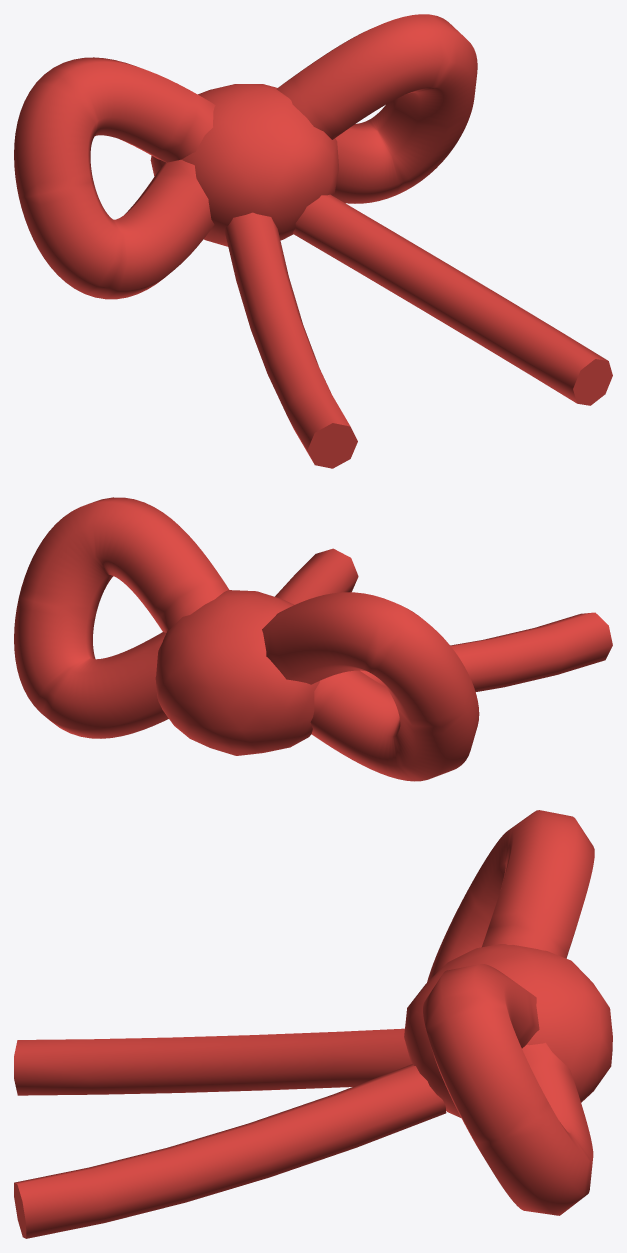
Rendered from lp_bow.glb.
The picture shows the model from 3 angles, top to bottom: view 1: azimuth 30°, elevation 25°; view 2: azimuth 150°, elevation 25°; view 3: azimuth 270°, elevation 25°; orthographic projection. The views are drawn at different scales.
Visible parts, largest first — view 1: lp_bow; view 2: lp_bow; view 3: lp_bow.
Boxes of the visible parts, x1,y1,x2,y2 form: lp_bow: [14, 14, 612, 468]; lp_bow: [14, 497, 612, 781]; lp_bow: [14, 810, 612, 1238].
Bounding box in the file's own units: 1.55 × 0.7894 × 1.59.
